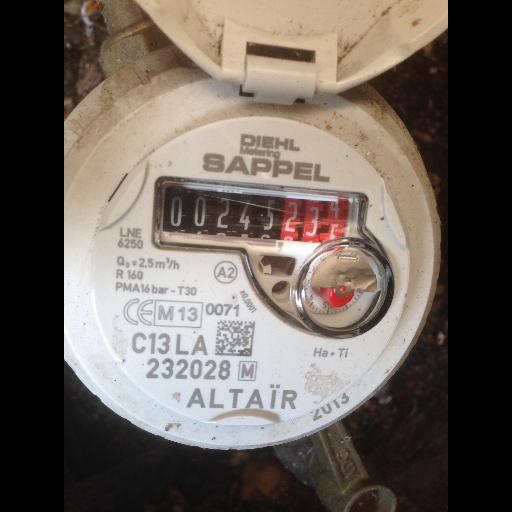0: (162, 187, 193, 233), (189, 190, 217, 235)
2: (213, 192, 241, 237), (281, 197, 306, 242)
3: (302, 199, 327, 243)
4: (323, 200, 349, 244), (238, 194, 261, 238)
5: (257, 196, 285, 240)
border_water_meter_number: (149, 175, 370, 267)
